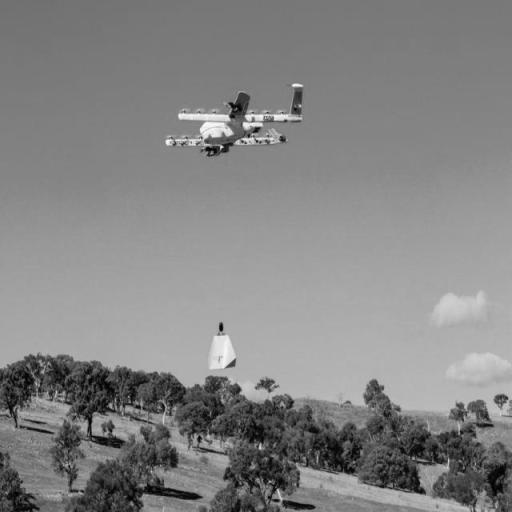uav: (164, 70, 308, 160)
